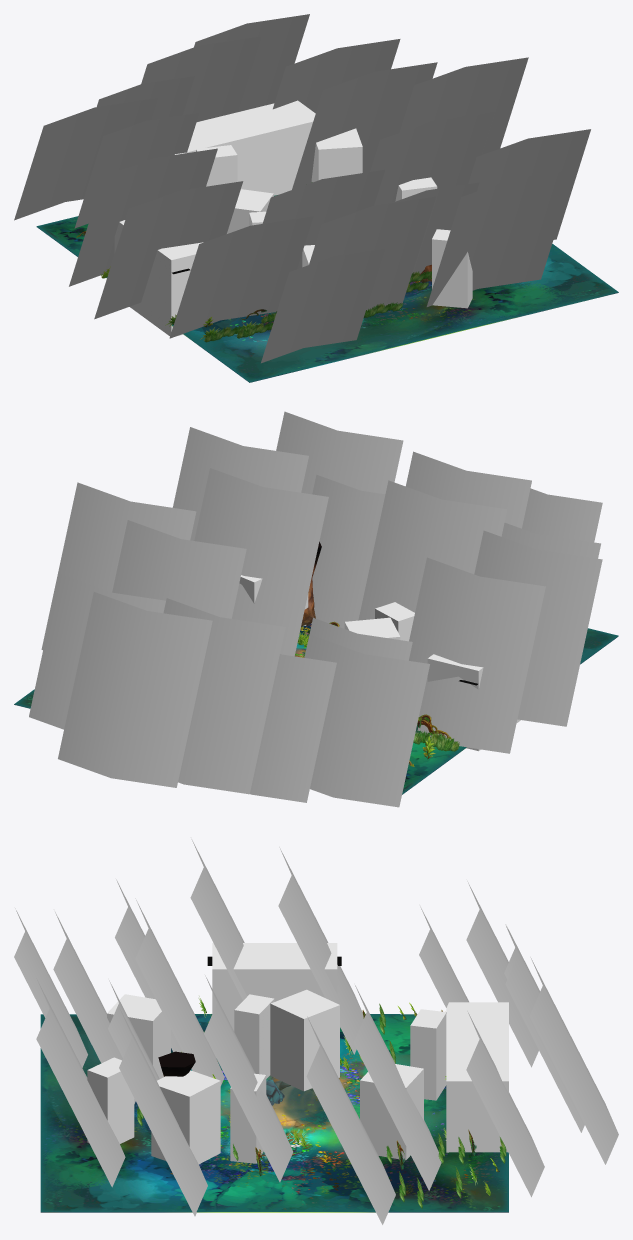
The model's file is FieldDungeon_02_001_Road_L_001.fbx.
The picture shows the model from 3 angles, top to bottom: view 1: azimuth 30°, elevation 25°; view 2: azimuth 150°, elevation 25°; view 3: azimuth 270°, elevation 25°; orthographic projection. The views are drawn at different scales.
Parts seen in each view (by area): view 1: FieldArea_02_001_tree_1_AA, FieldArea_02_001_tree_1_BB, FieldDungeon_02_001_Door_Right_001, FieldArea_02_001_ground2, DoorWay_NavMask (1) (×4), FieldDungeon_02_001_Door_Front_001, Cube_08, Cube_03, FieldArea_02_001_kusa, FieldDungeon_02_001_Door_Right_001_shadow, Cube_02, Cube_06 (+2 smaller); view 2: FieldArea_02_001_tree_1_AA, FieldDungeon_02_001_Door_Front_001, FieldArea_02_001_tree_1_BB, FieldDungeon_02_001_Door_Right_001, FieldArea_02_001_ground2, FieldArea_02_001_kusa, DoorWay_NavMask (1), Cube_02, Cube_05; view 3: FieldArea_02_001_tree_1_AA, FieldArea_02_001_ground2, DoorWay_NavMask (1) (×2), FieldArea_02_001_tree_1_BB, FieldDungeon_02_001_Door_Front_001, FieldDungeon_02_001_Door_Right_001, Cube_02, Cube_07, Cube_08, Cube_06, Cube_03, Cube_05 (+6 smaller).
Part boxes in pixels (x1=…): FieldArea_02_001_tree_1_AA: x1=169, y1=57, x2=590, y2=363; FieldArea_02_001_tree_1_BB: x1=14, y1=39, x2=400, y2=228; FieldDungeon_02_001_Door_Right_001: x1=69, y1=148, x2=243, y2=319; FieldArea_02_001_ground2: x1=37, y1=216, x2=618, y2=382; DoorWay_NavMask (1) (×4): x1=114, y1=100, x2=315, y2=335; FieldDungeon_02_001_Door_Front_001: x1=141, y1=14, x2=309, y2=121; Cube_08: x1=311, y1=128, x2=362, y2=182; Cube_03: x1=432, y1=229, x2=472, y2=308; FieldArea_02_001_kusa: x1=76, y1=182, x2=431, y2=342; FieldDungeon_02_001_Door_Right_001_shadow: x1=107, y1=277, x2=260, y2=355; Cube_02: x1=227, y1=189, x2=273, y2=233; Cube_06: x1=196, y1=145, x2=237, y2=186; FieldArea_02_001_tree_1_AA: x1=41, y1=411, x2=602, y2=656; FieldDungeon_02_001_Door_Front_001: x1=58, y1=592, x2=285, y2=794; FieldArea_02_001_tree_1_BB: x1=29, y1=574, x2=429, y2=807; FieldDungeon_02_001_Door_Right_001: x1=409, y1=530, x2=602, y2=753; FieldArea_02_001_ground2: x1=14, y1=623, x2=618, y2=793; FieldArea_02_001_kusa: x1=297, y1=621, x2=459, y2=766; DoorWay_NavMask (1): x1=427, y1=654, x2=520, y2=751; Cube_02: x1=344, y1=617, x2=400, y2=639; Cube_05: x1=375, y1=602, x2=414, y2=641; FieldArea_02_001_tree_1_AA: x1=14, y1=879, x2=441, y2=1224; FieldArea_02_001_ground2: x1=40, y1=1014, x2=508, y2=1211; DoorWay_NavMask (1) (×2): x1=212, y1=943, x2=508, y2=1152; FieldArea_02_001_tree_1_BB: x1=419, y1=881, x2=544, y2=1197; FieldDungeon_02_001_Door_Front_001: x1=505, y1=927, x2=618, y2=1164; FieldDungeon_02_001_Door_Right_001: x1=190, y1=839, x2=363, y2=1054; Cube_02: x1=270, y1=989, x2=339, y2=1091; Cube_07: x1=151, y1=1070, x2=220, y2=1164; Cube_08: x1=360, y1=1064, x2=423, y2=1160; Cube_06: x1=410, y1=1009, x2=446, y2=1100; Cube_03: x1=87, y1=1057, x2=134, y2=1143; Cube_05: x1=234, y1=994, x2=274, y2=1078.
Size of what is drawn, in the model's own units: 18.39 by 5.86 by 19.38.
